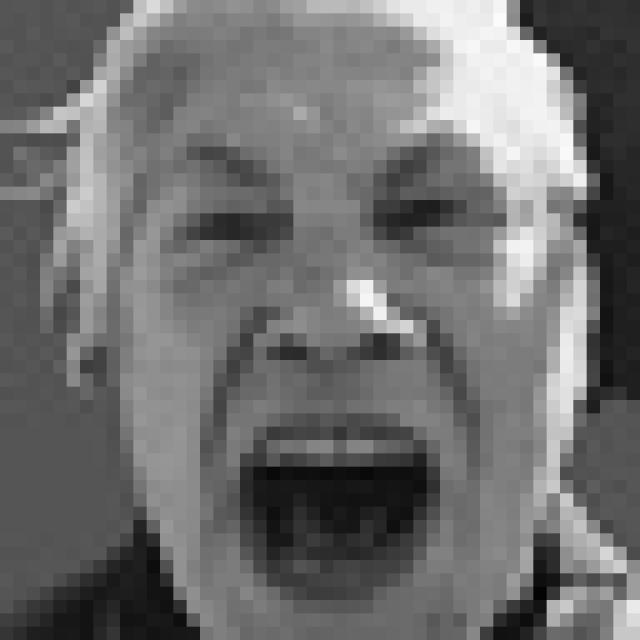angry: (163, 130, 518, 598)
